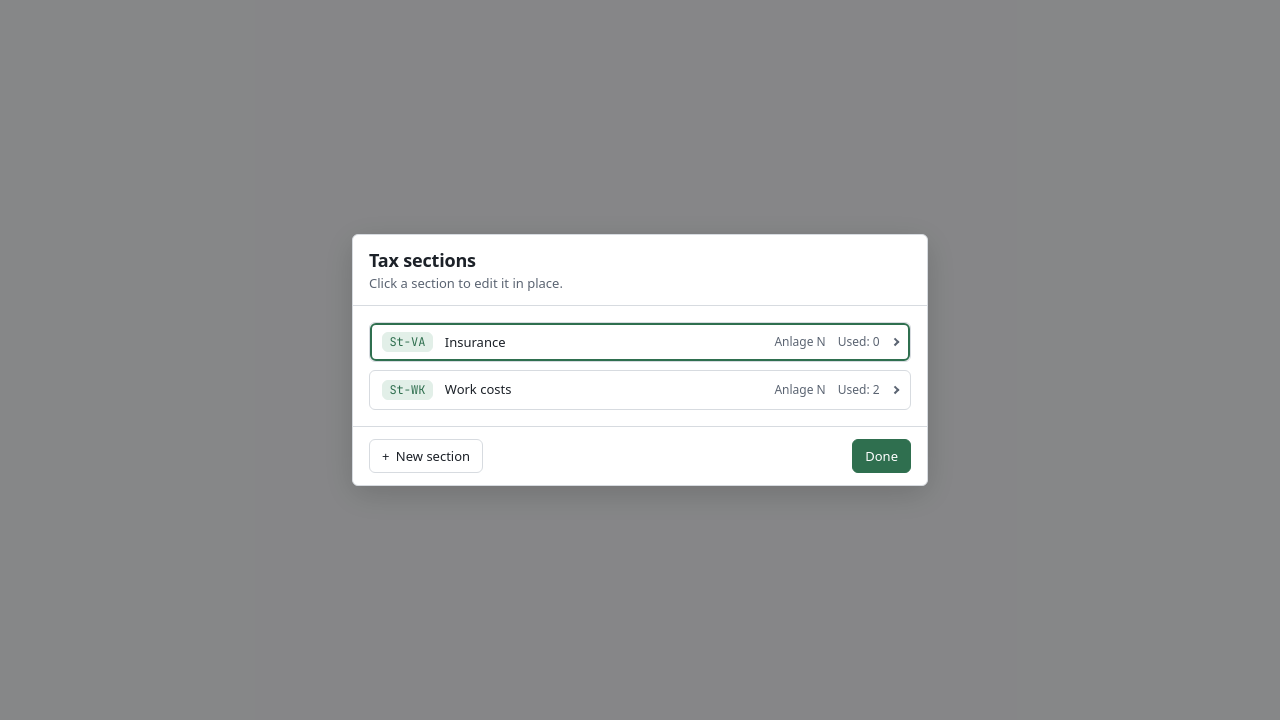
Test case: TaxSectionDialogComponent › shows the server duplicate on the code field
This screenshot has width=1280, height=720.
Click the button with class "tax-sections__head" that starts with "St-VA" at (407, 342), box [370, 324, 910, 361]
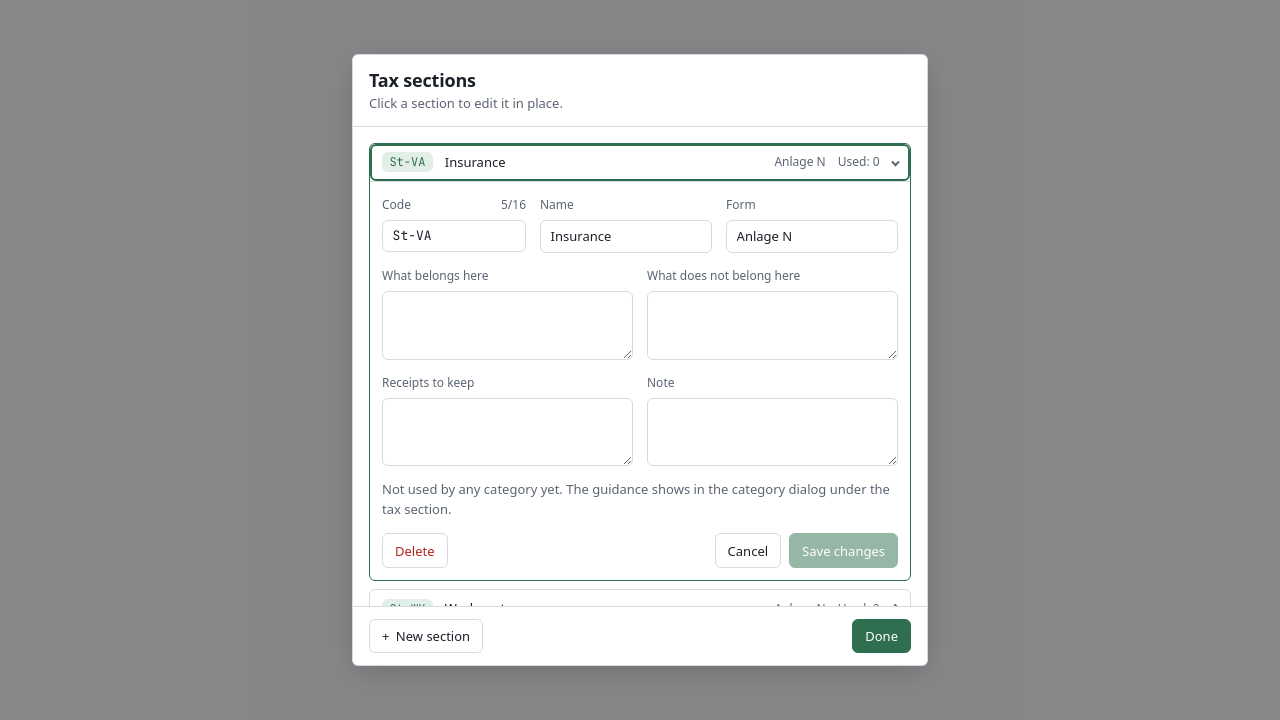
Replace the text in the field labelled "Code 5/16" with "St-XY" at (454, 236), box [382, 220, 526, 252]
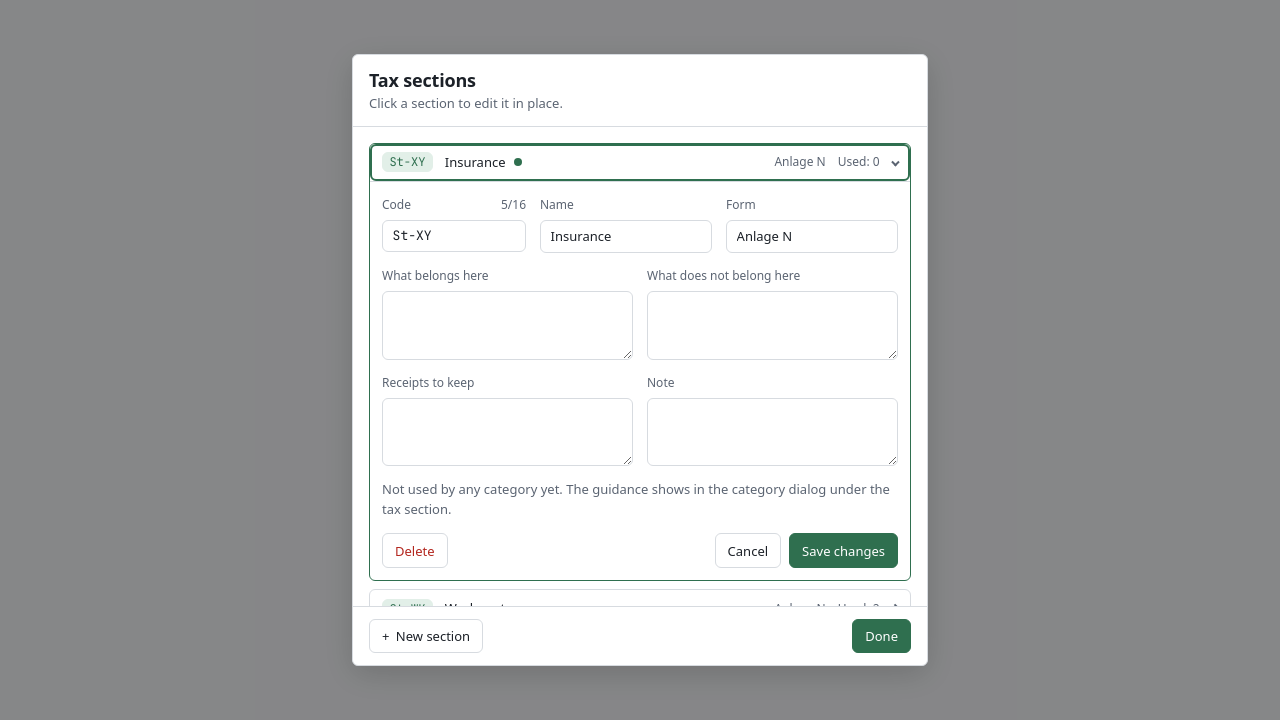
Click the button "Save changes" at (844, 551), box [789, 533, 898, 568]
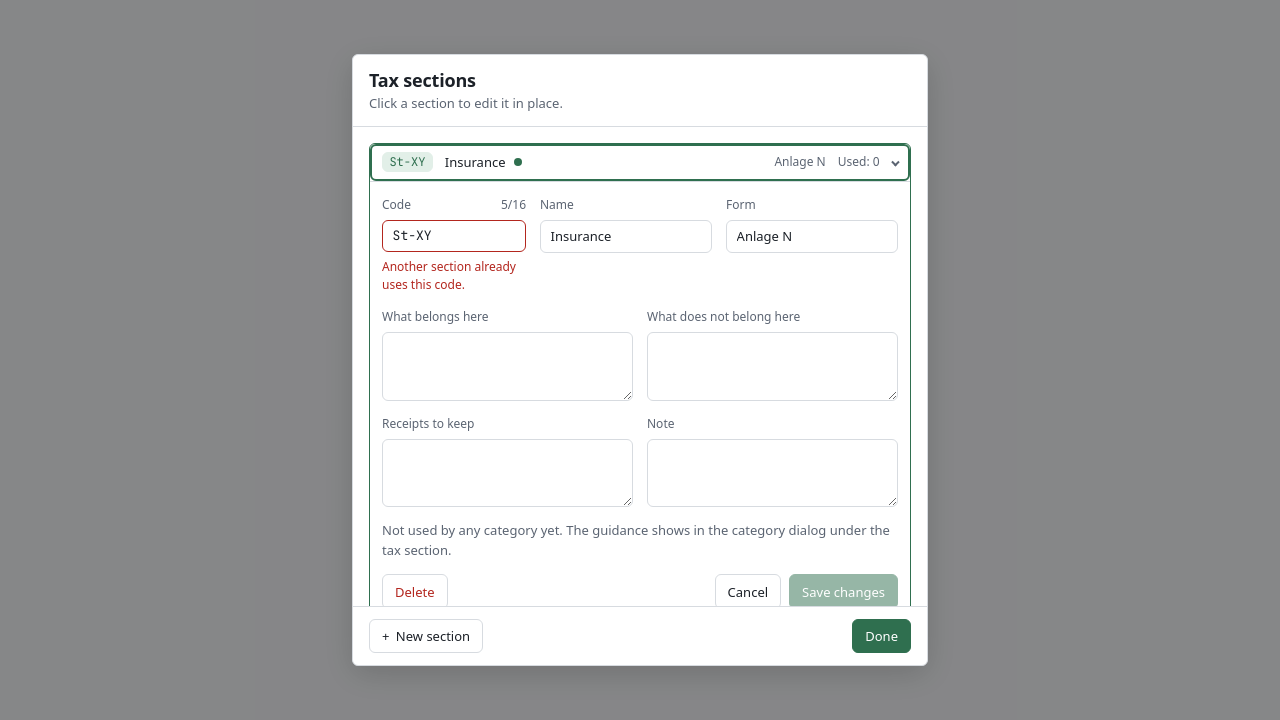
Check: the text with id "tax-section-code-error" reads "Another section already uses this code.", box [382, 258, 516, 293]
